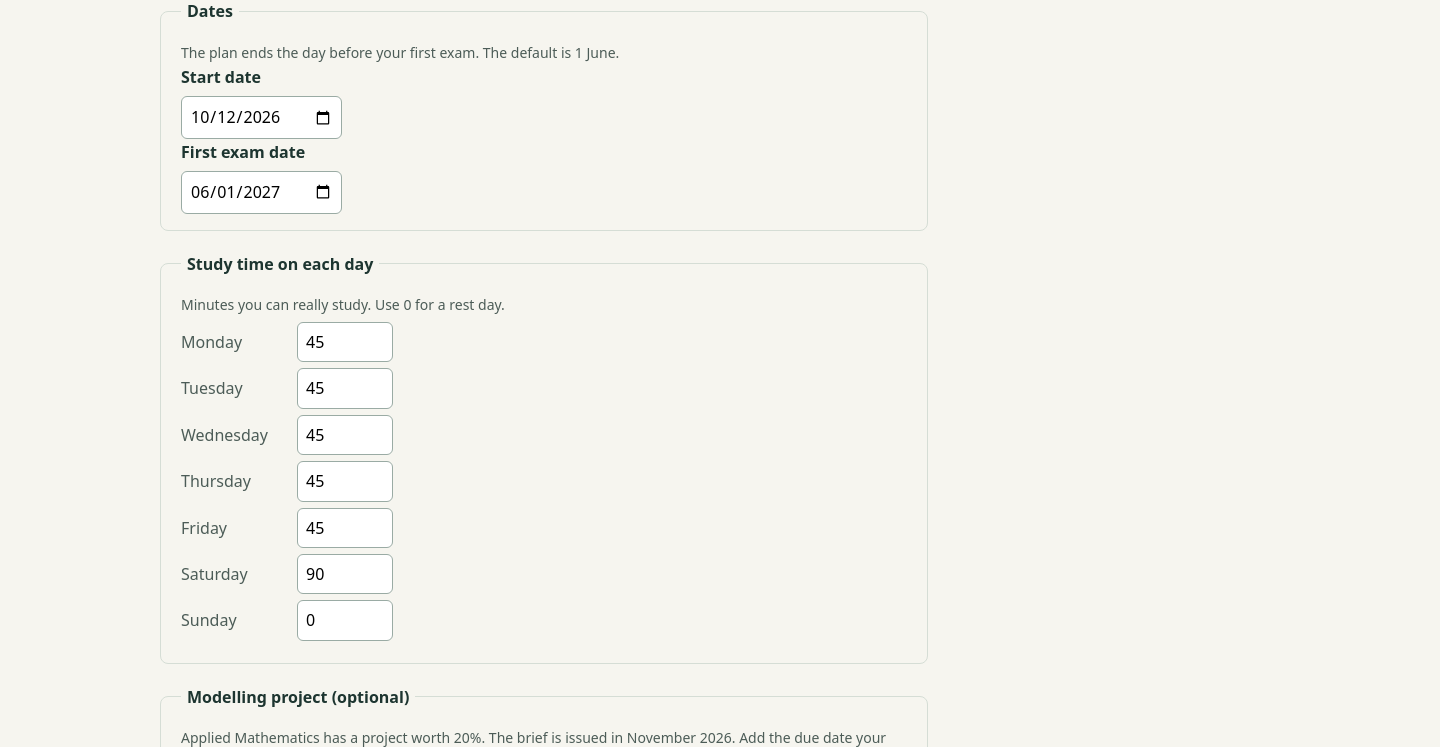
Scenario: Revision page: setup › rejects minutes that are not numbers in range
(page scrolled)
Replace the text in the number field labelled "Monday" with "9999" at (345, 342), box left=297, top=322, right=393, bottom=362
(page scrolled)
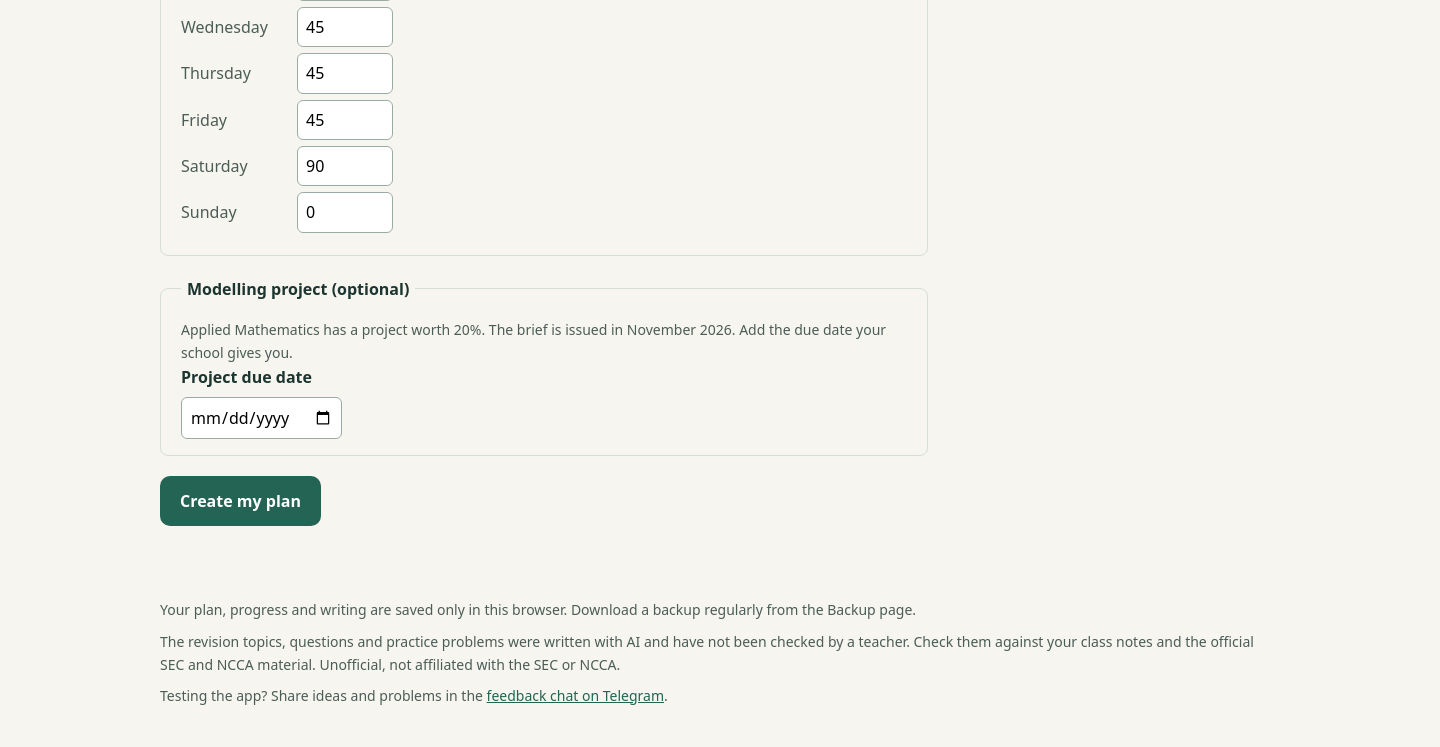
Click the button "Create my plan" at (240, 501), box left=160, top=476, right=321, bottom=526
(page scrolled)
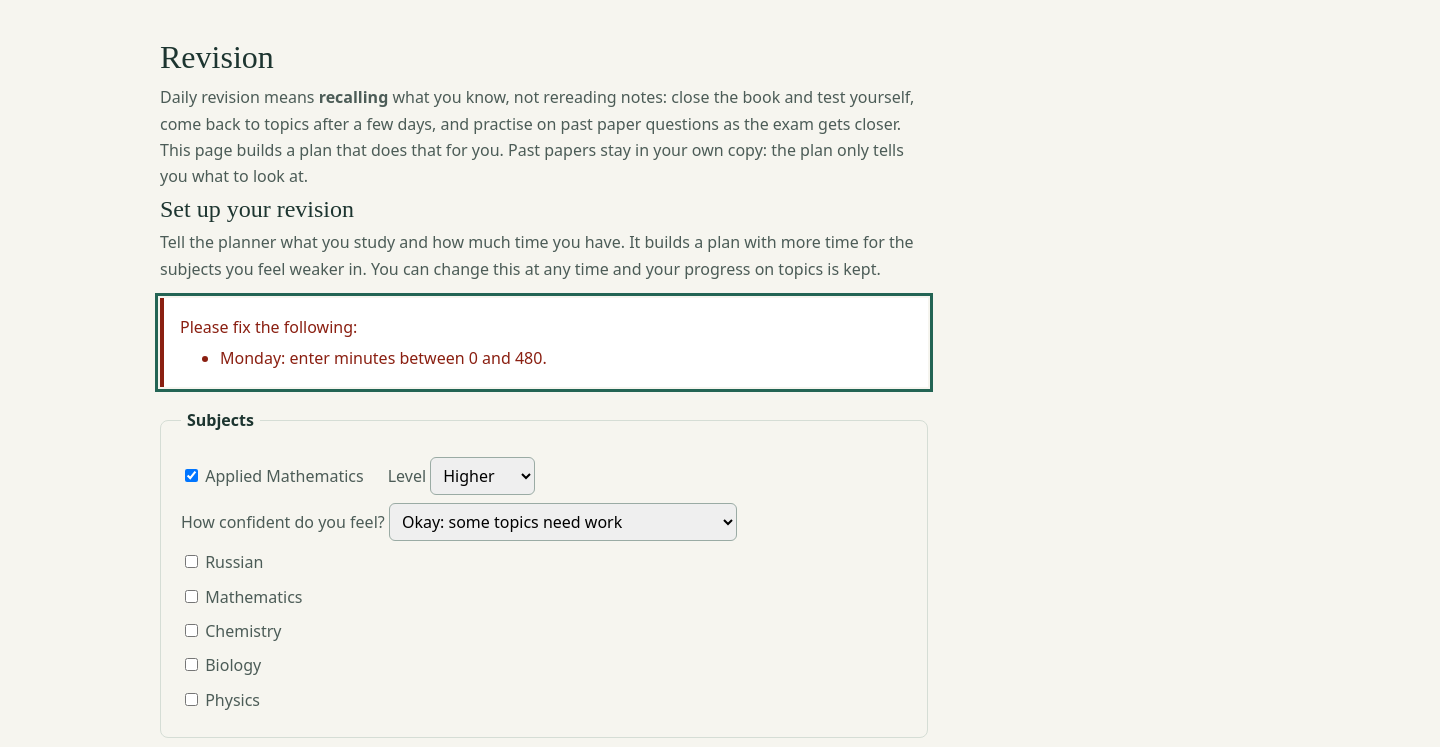
Expected: the list item "Monday: enter minutes between 0 and 480." is shown, left=220, top=346, right=547, bottom=368
